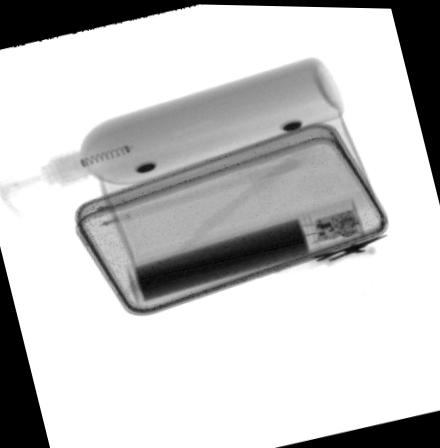Powerbank: (126, 194, 368, 307)
Scissors: (293, 222, 392, 279)
